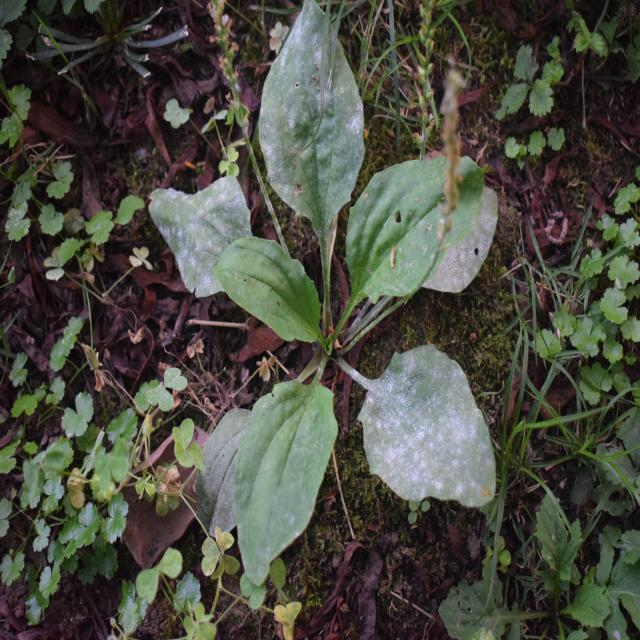plantain: (155, 27, 505, 547)
